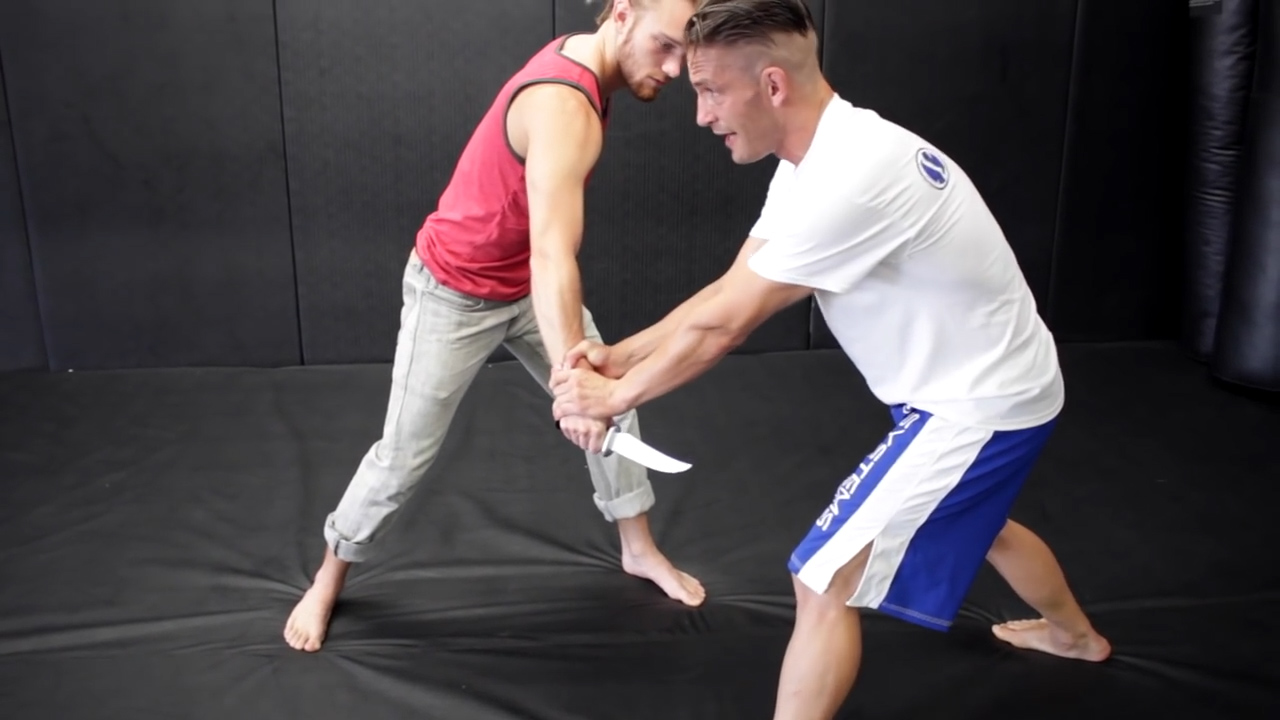knife: (546, 414, 701, 484)
